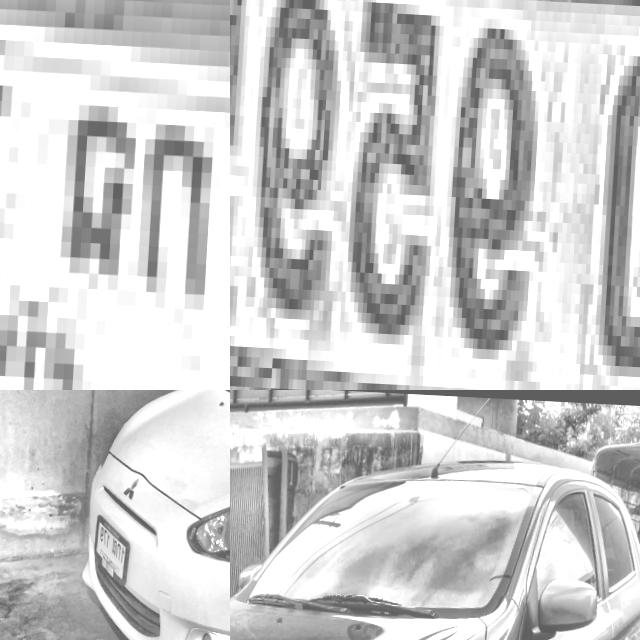license-plate: (230, 0, 640, 390), (0, 0, 230, 390), (94, 507, 138, 585)
